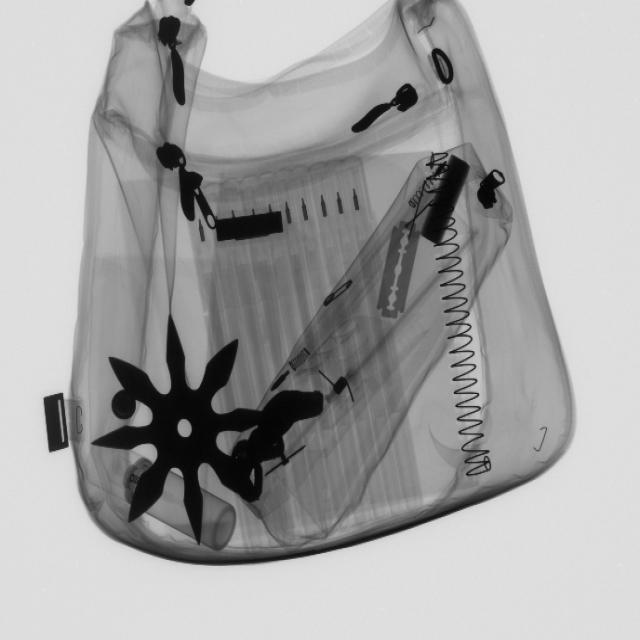BLADE: (373, 216, 424, 325)
SHURIKEN: (93, 314, 280, 545)
